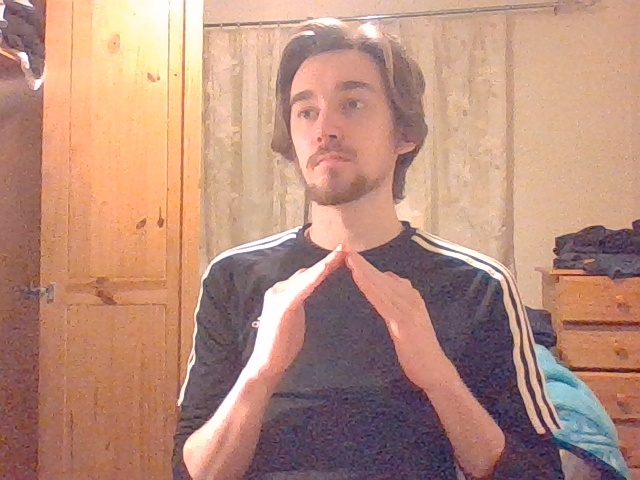home: (261, 243, 429, 332)
